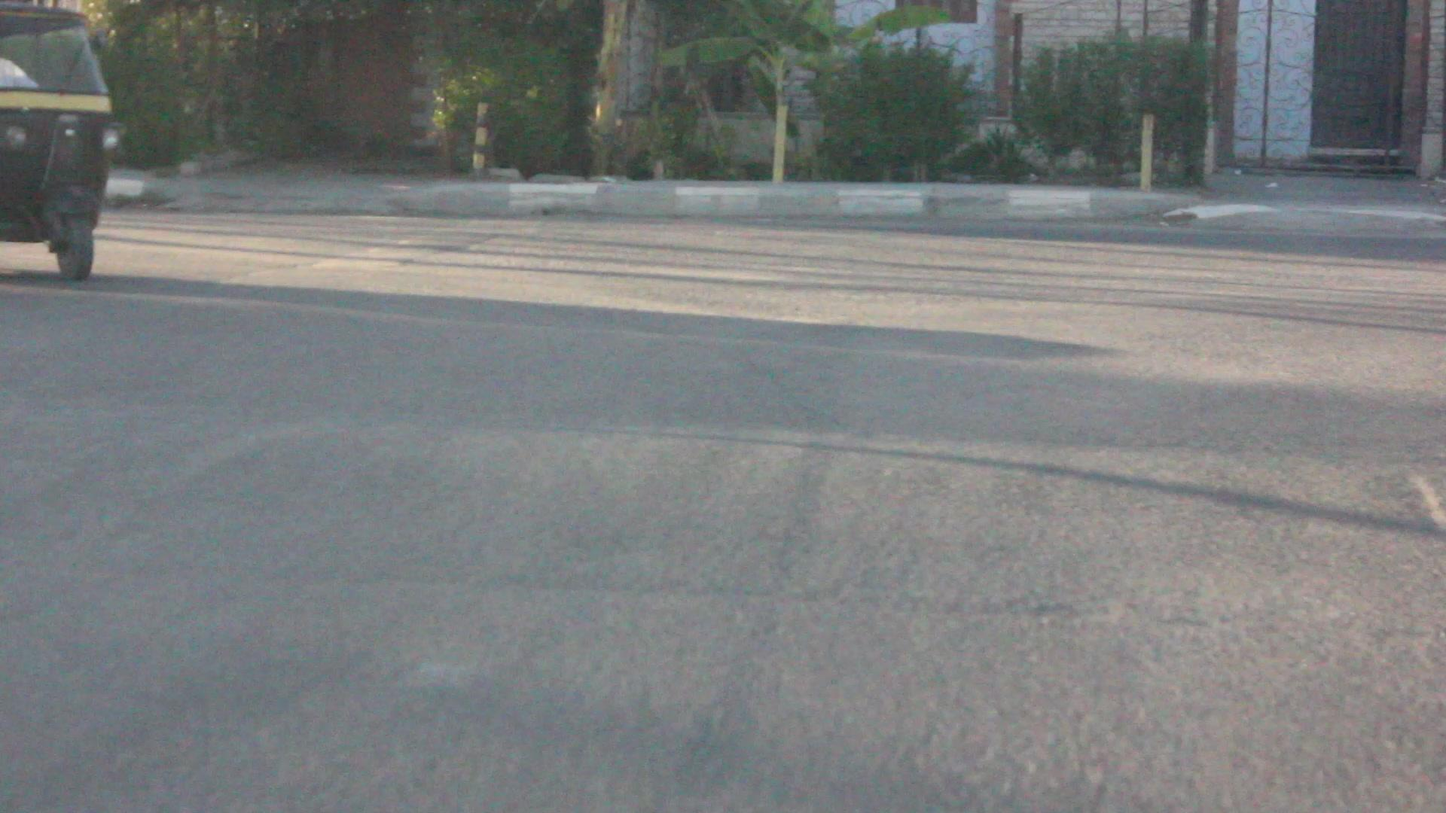Bump: (8, 391, 1446, 615)
